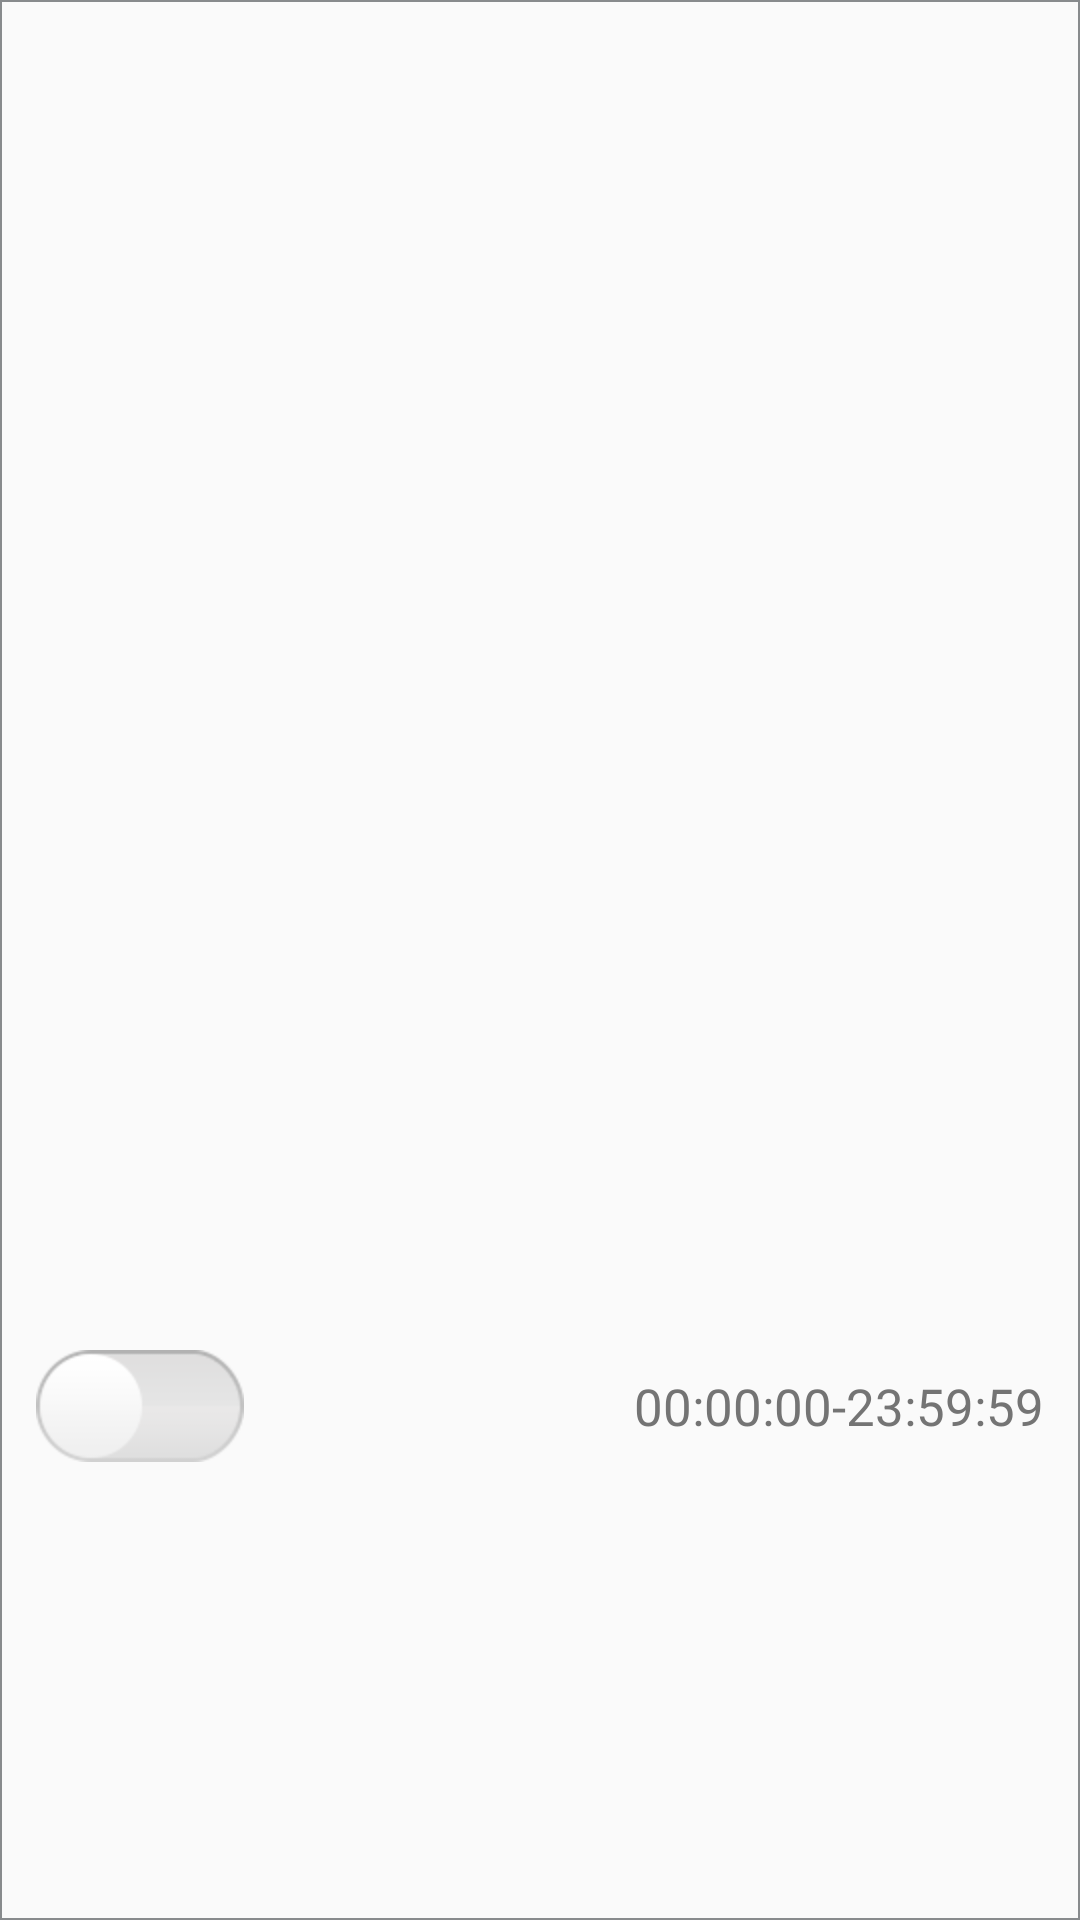

Screen size 1080px x 1920px. Icon name, then its box in pixels as (left=x1, top=y1, right=x2, bottom=y2):
on off: (left=36, top=1350, right=244, bottom=1462)
